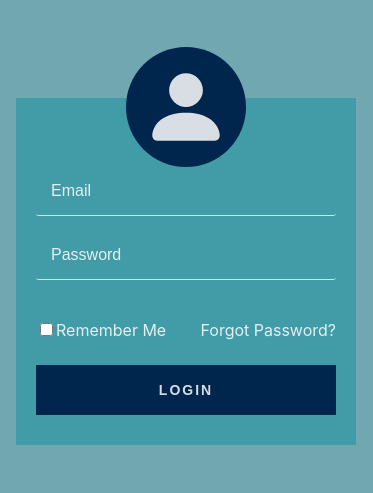
Test the Login component › submitting the form without email should display an error message
Click the button with test id "submit": (186, 390) [36,364,336,414]
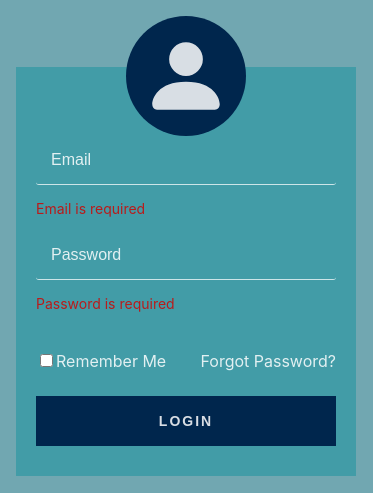
Expected: the text "Email is required" is shown, [36,200,145,216]
